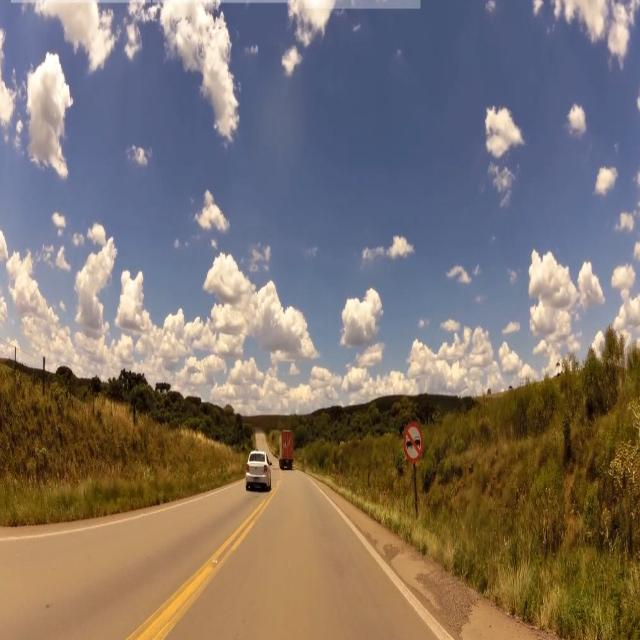R-7: (402, 422, 426, 466)
